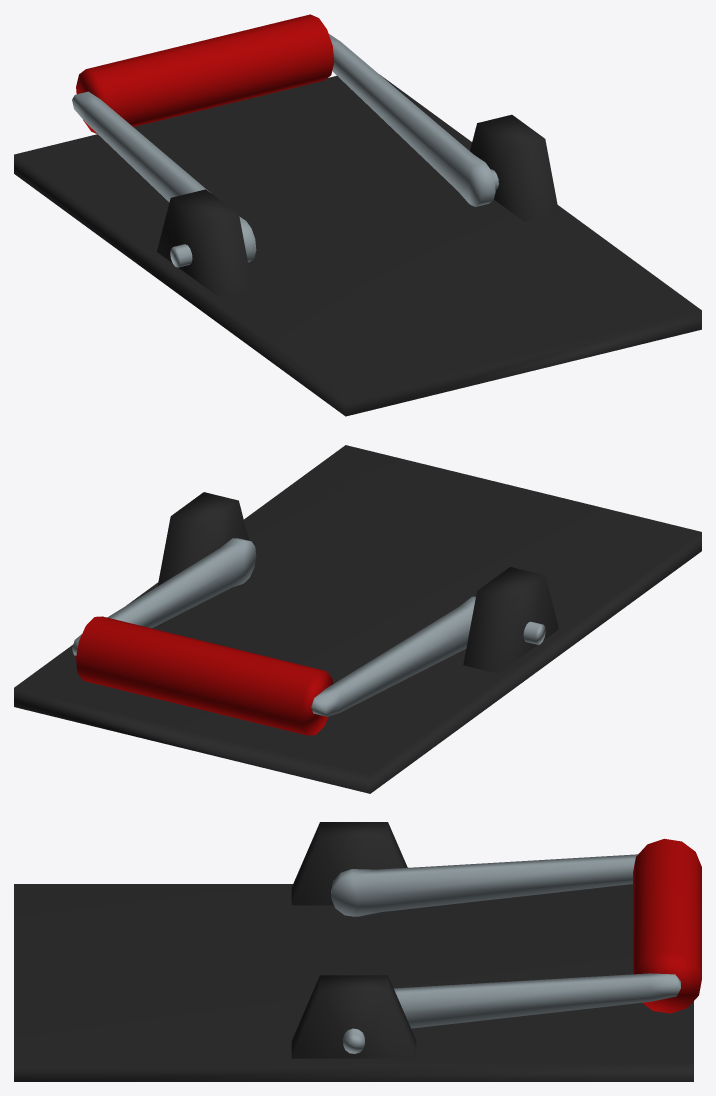
Rendered from Switch_base.fbx.
3 renders of one model, top to bottom at view 1: azimuth 30°, elevation 25°; view 2: azimuth 150°, elevation 25°; view 3: azimuth 270°, elevation 25°, orthographic. The views are drawn at different scales.
Visible parts, largest first — view 1: Switch2, Caoutchouc, SwitchMain, Switch_R_support, Switch_L_support; view 2: Switch2, Caoutchouc, SwitchMain, Switch_R_support, Switch_L_support; view 3: Switch2, SwitchMain, Caoutchouc, Switch_L_support, Switch_R_support.
Part boxes in pixels (box(x1,y1,x2,y2)): Switch2: box(14, 74, 701, 416); Caoutchouc: box(76, 14, 334, 133); SwitchMain: box(72, 34, 498, 267); Switch_R_support: box(157, 189, 252, 296); Switch_L_support: box(470, 114, 558, 221); Switch2: box(14, 445, 701, 793); Caoutchouc: box(76, 616, 333, 735); SwitchMain: box(72, 538, 545, 716); Switch_R_support: box(463, 567, 558, 673); Switch_L_support: box(157, 492, 248, 585); Switch2: box(14, 884, 693, 1081); SwitchMain: box(331, 854, 680, 1053); Caoutchouc: box(633, 838, 701, 1013); Switch_L_support: box(291, 975, 416, 1058); Switch_R_support: box(291, 822, 407, 905).
Bounding box in the file's own units: 63.54 × 15.88 × 101.
